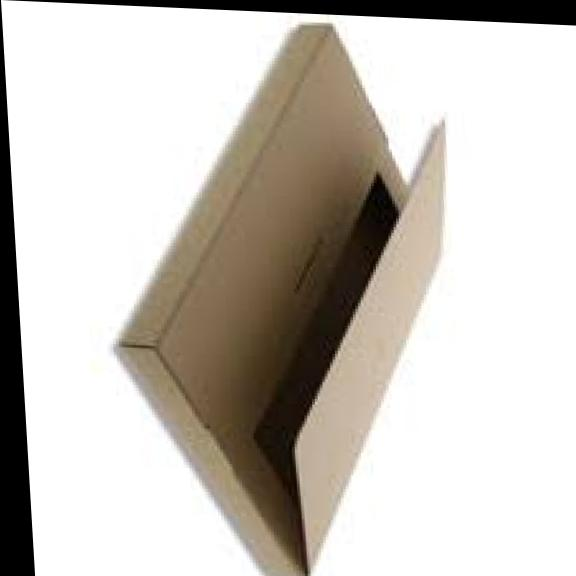Kertas: (124, 26, 441, 576)
